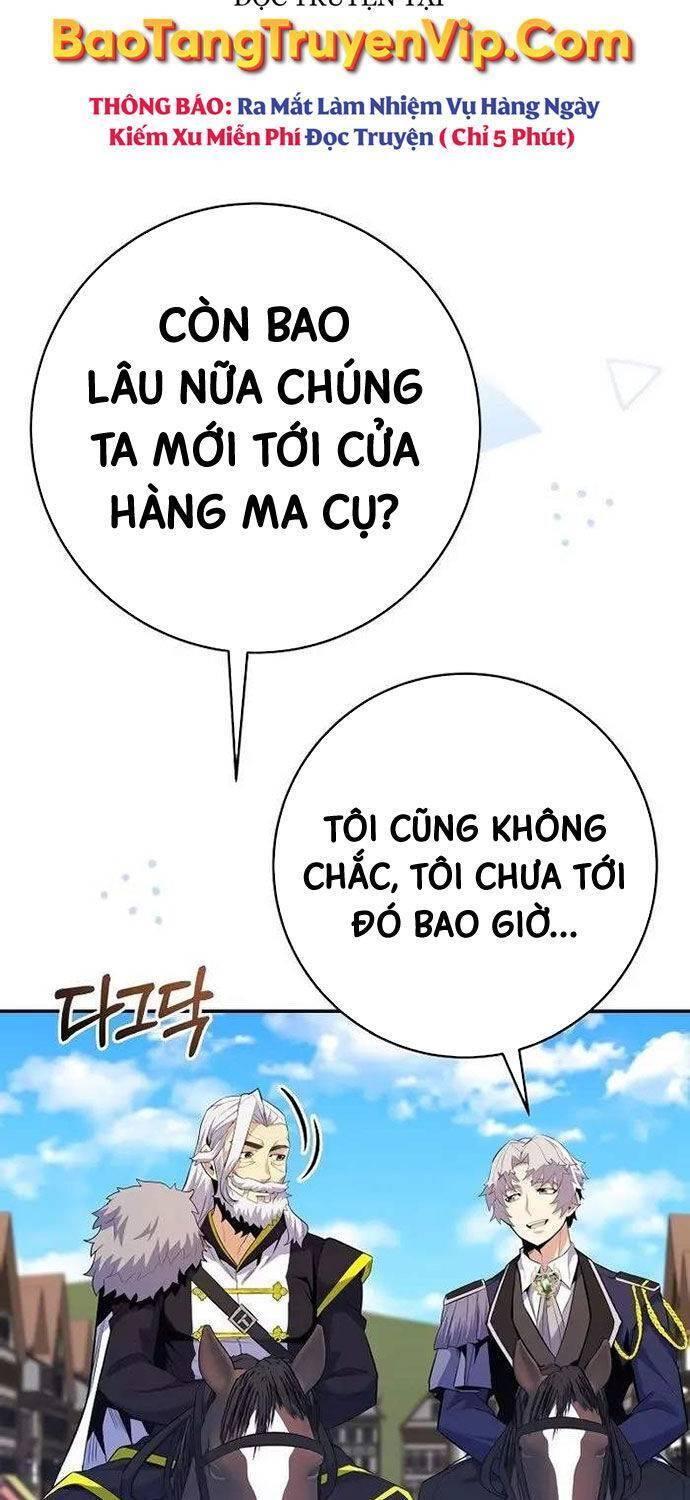quangcao: (52, 0, 638, 158)
